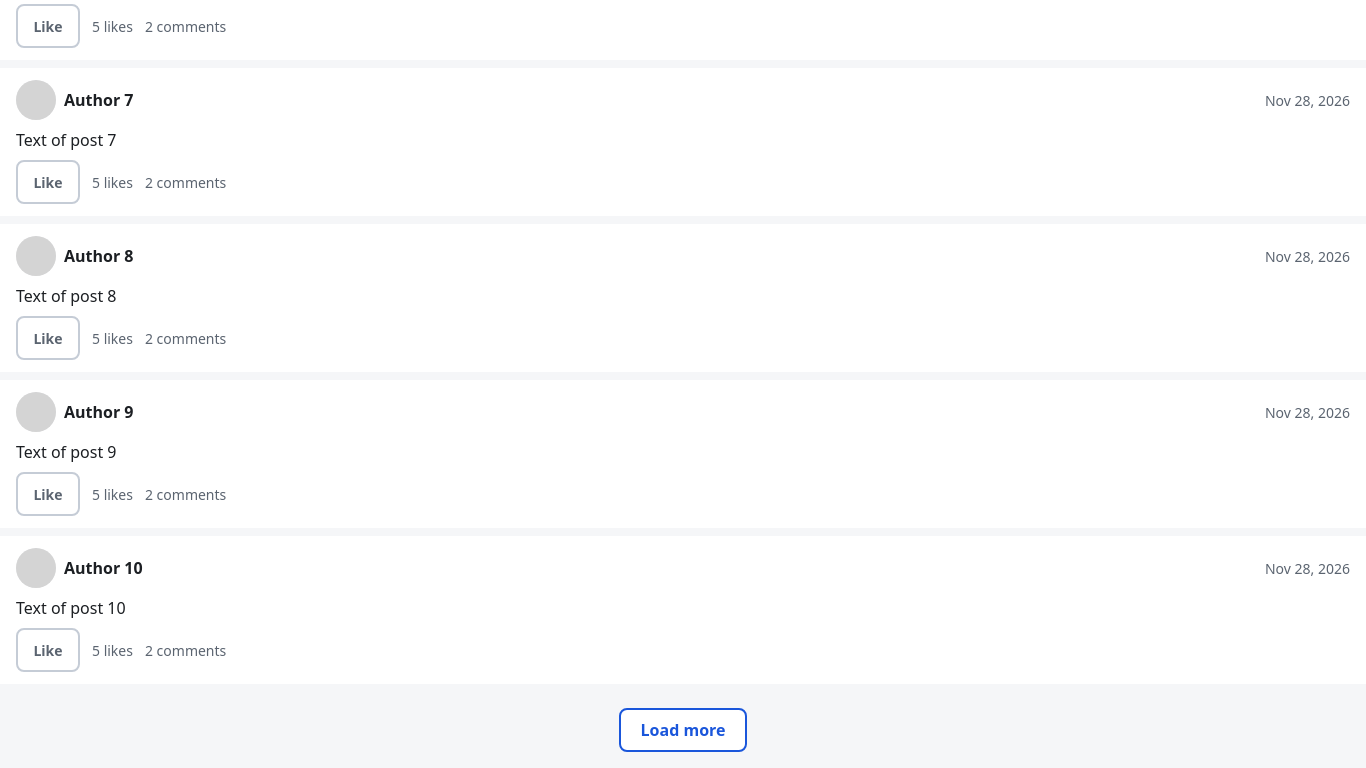
Test: Feed: the memory limit › draws the post again at the same place when its page arrives
(page scrolled)
Step 1. Click the button "Load more" → x=683, y=730, box [618,708,747,752]
(page scrolled)
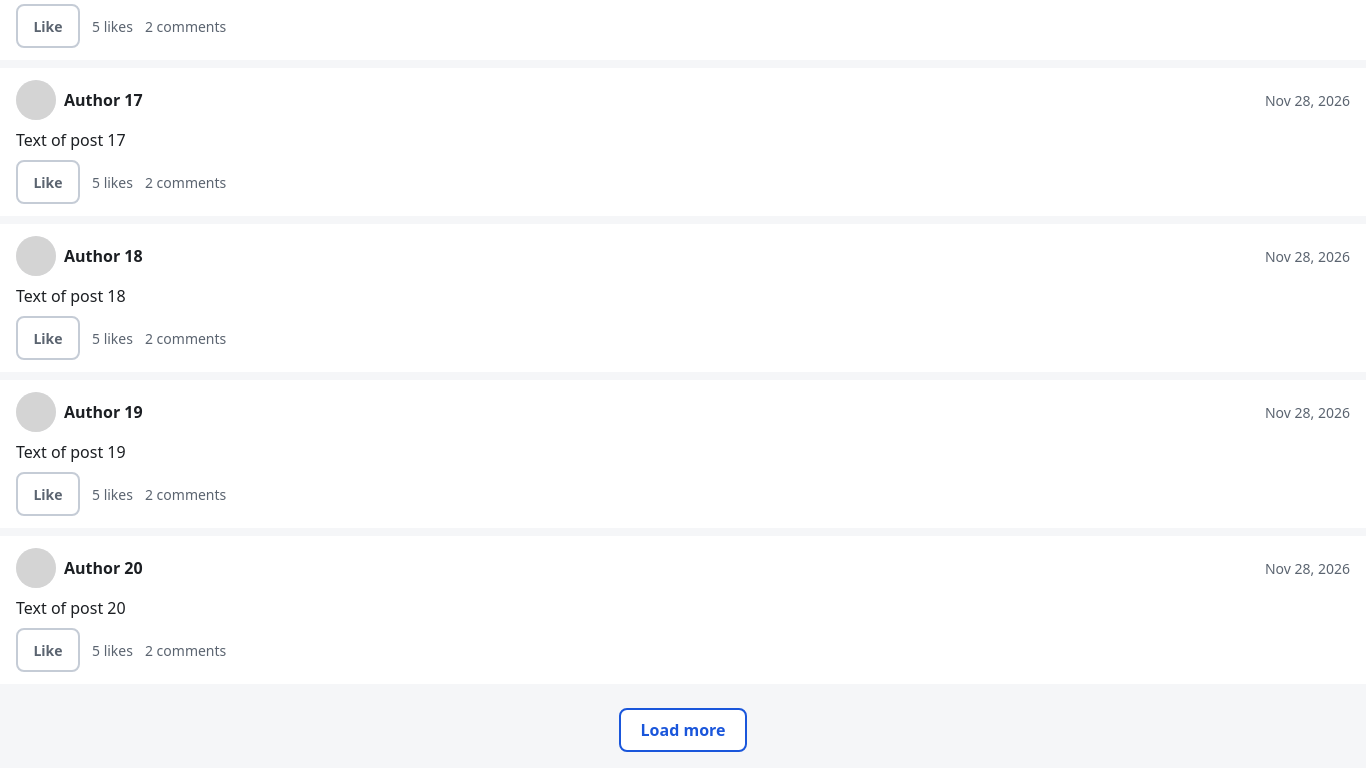
Step 2. Click the button "Load more" → x=683, y=730, box [618,708,747,752]
(page scrolled)
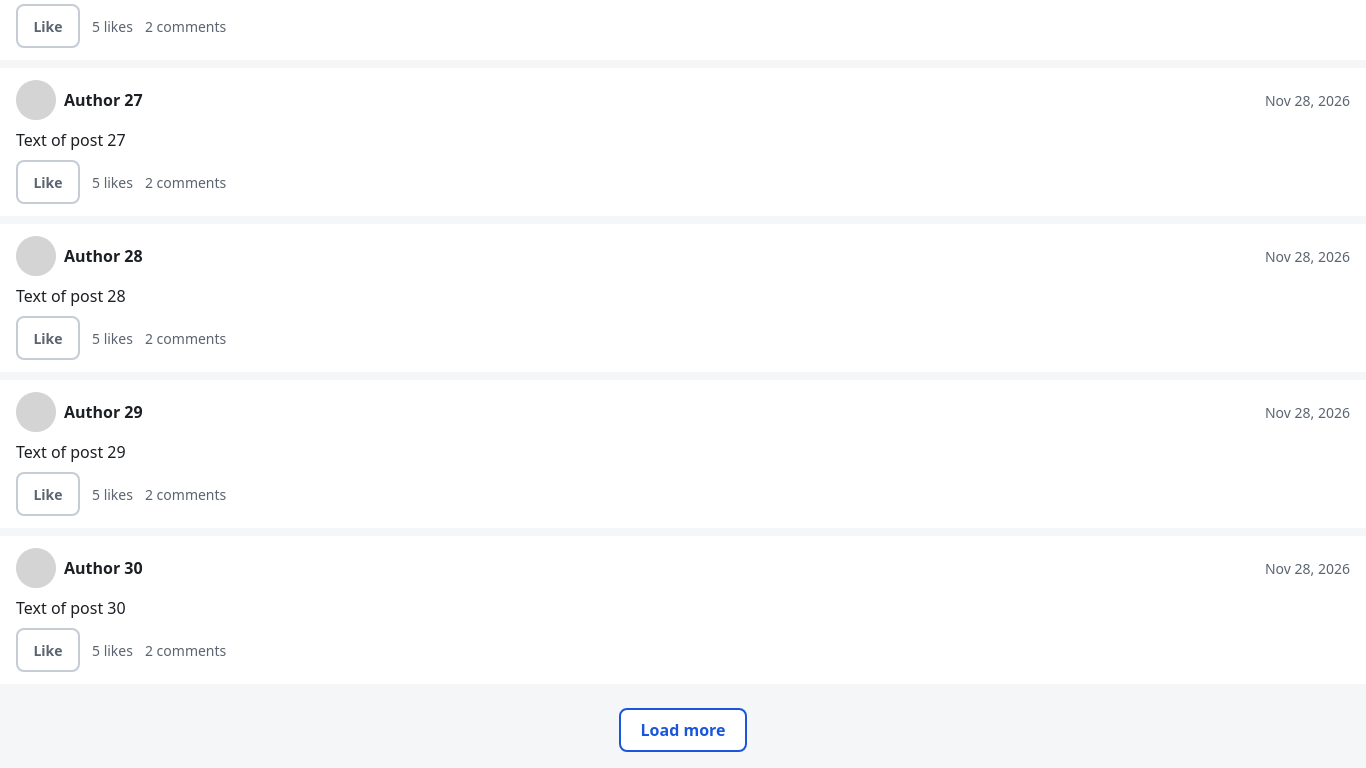
Step 3. Click the button "Load more" → x=683, y=730, box [618,708,747,752]
(page scrolled)
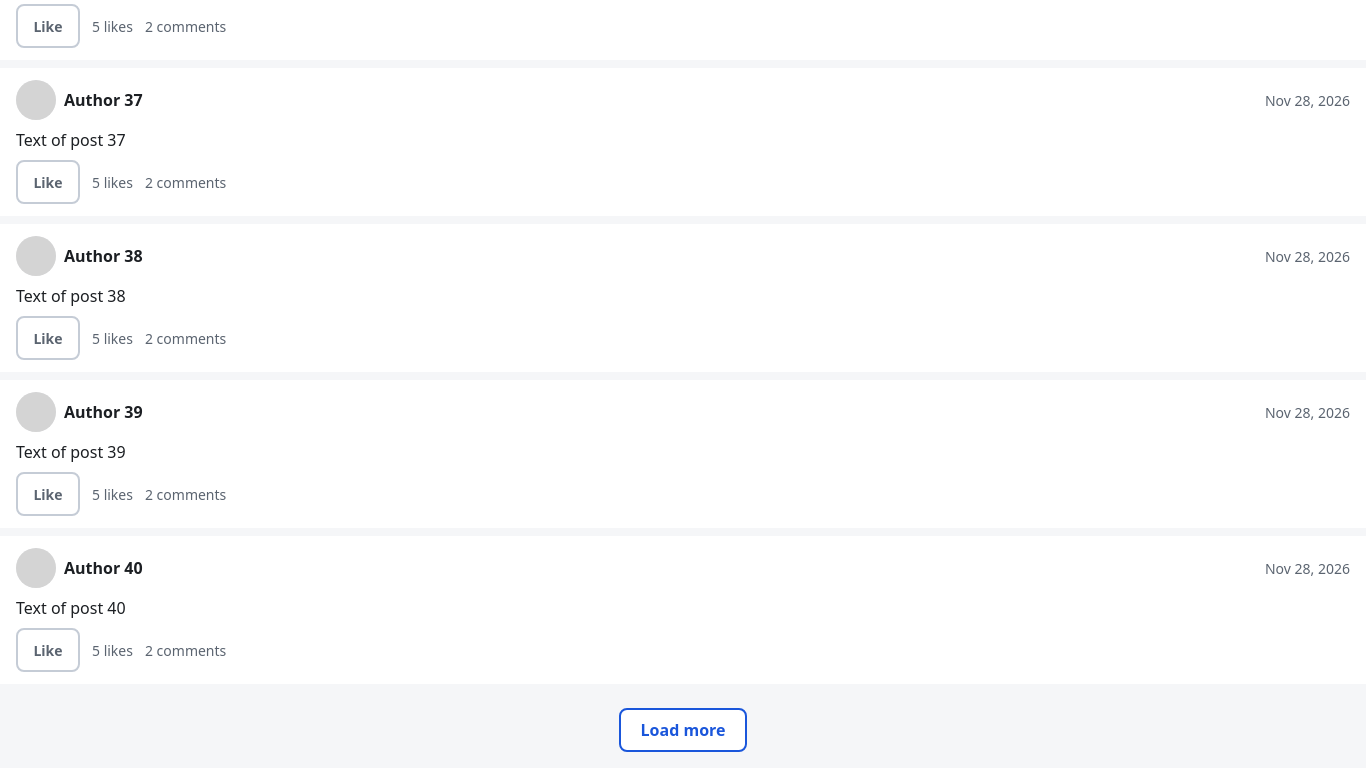
Step 4. Click the button "Load more" → x=683, y=730, box [618,708,747,752]
(page scrolled)
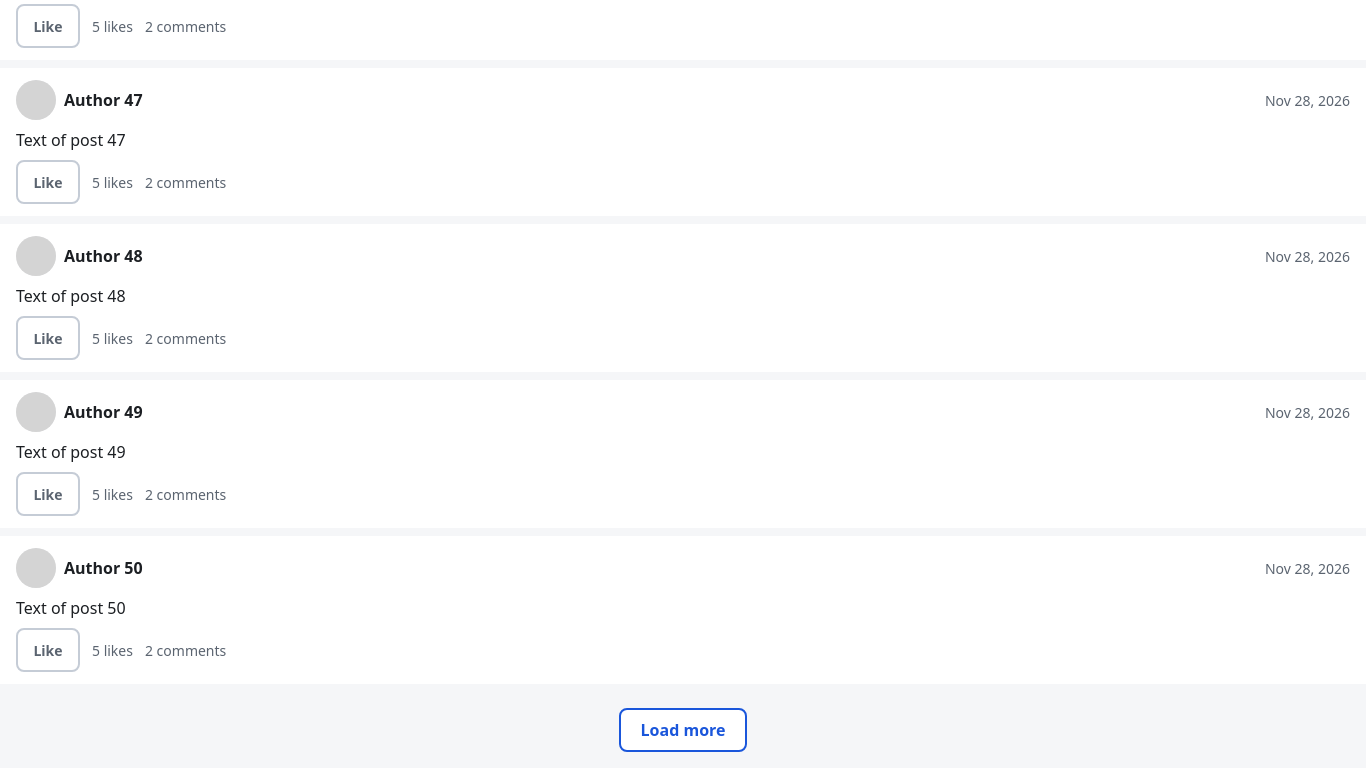
Step 5. Click the button "Load more" → x=683, y=730, box [618,708,747,752]
(page scrolled)
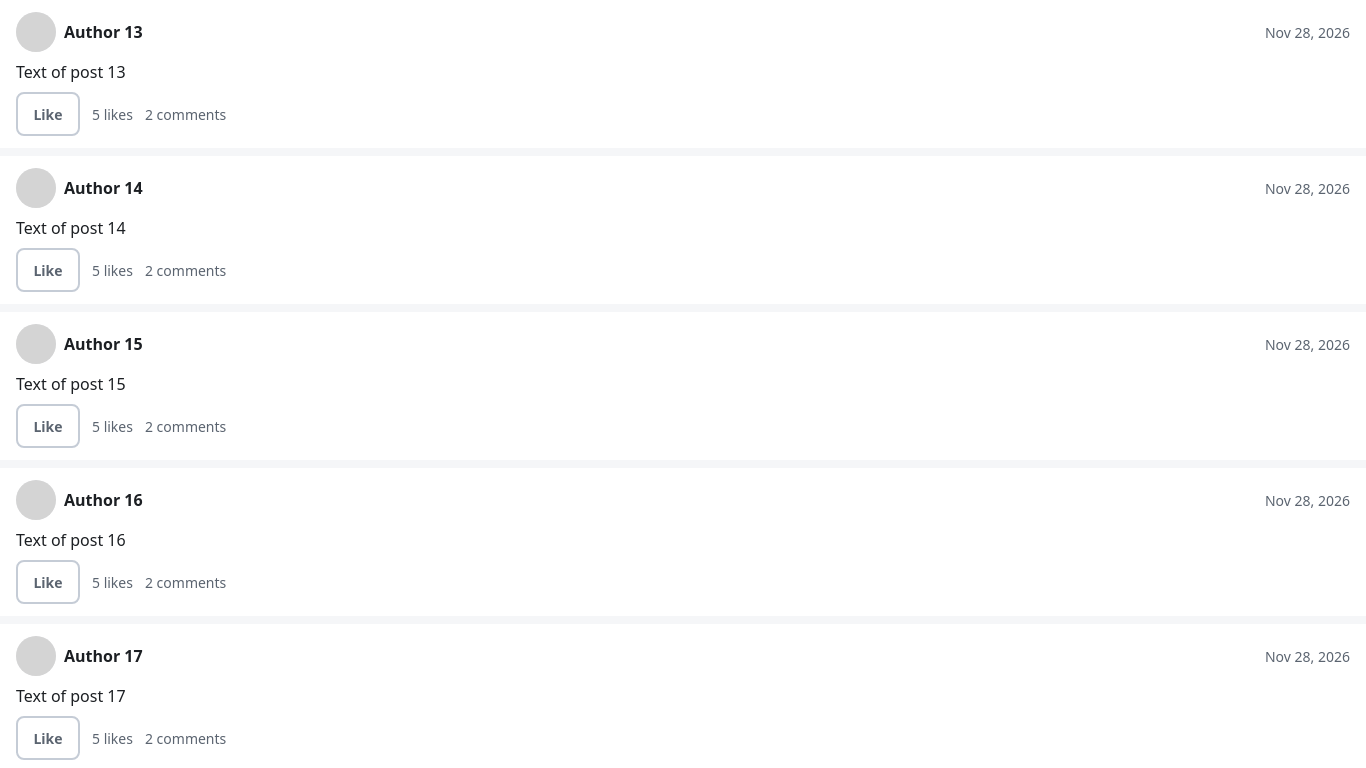
Now the text "Text of post 15" is shown, box [16,373,126,395]
